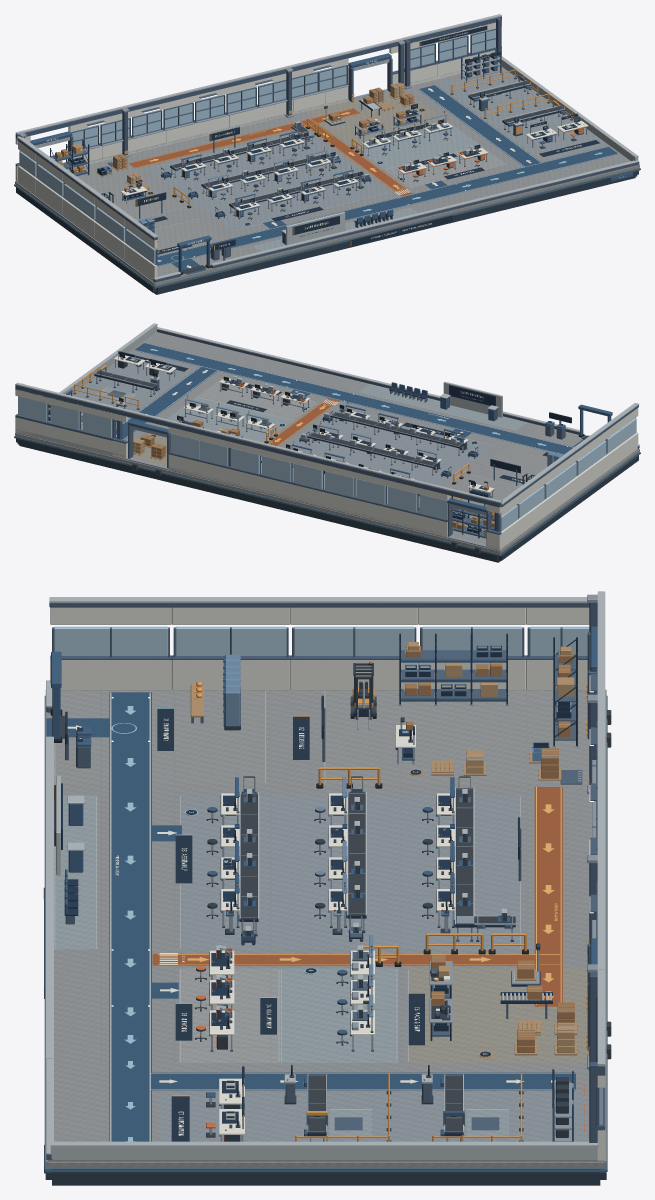
The model's file is factory.glb.
3 views of the same model, one above another, from view 1: azimuth 30°, elevation 25°; view 2: azimuth 150°, elevation 25°; view 3: azimuth 270°, elevation 25° (orthographic). The views are drawn at different scales.
Parts seen in each view (by area): view 1: factory; view 2: factory; view 3: factory.
Boxes of the visible parts, bbox=[...] form: factory: bbox=[14, 14, 640, 294]; factory: bbox=[14, 323, 640, 562]; factory: bbox=[43, 591, 611, 1185].
Size of the model in its own units: 50.09 by 6.11 by 25.3.
61 materials, 14 textured.
